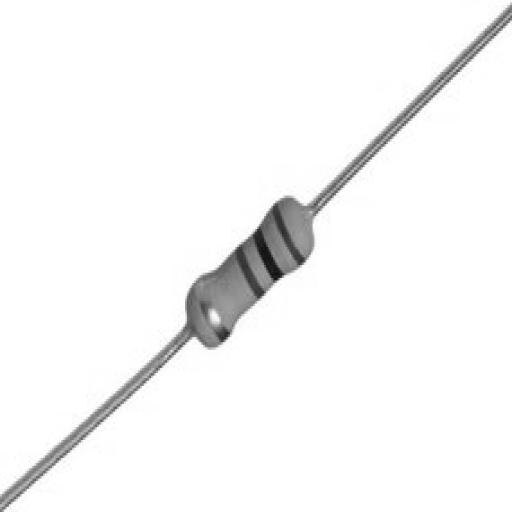RESISTOR: (152, 158, 344, 390)
